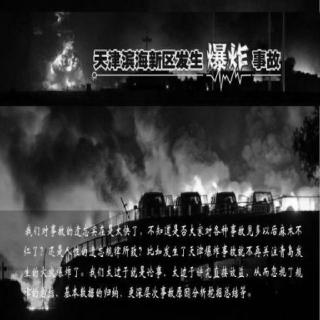Fire: (3, 103, 315, 217)
